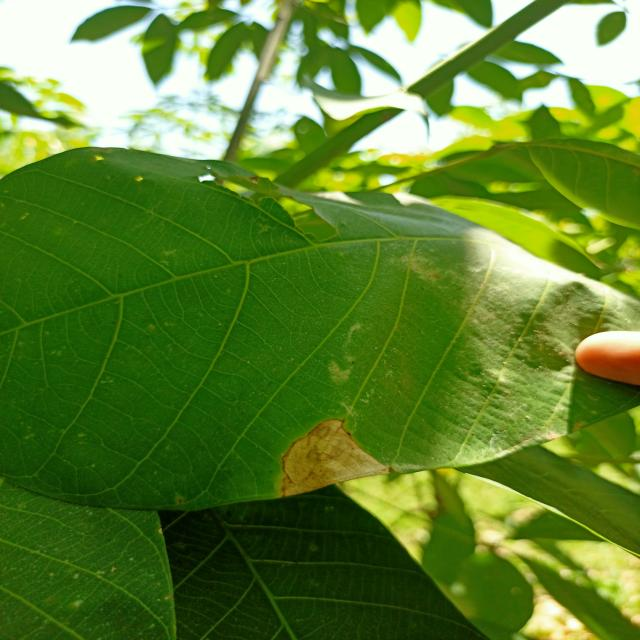Leaf-Blight: (280, 418, 393, 497)
